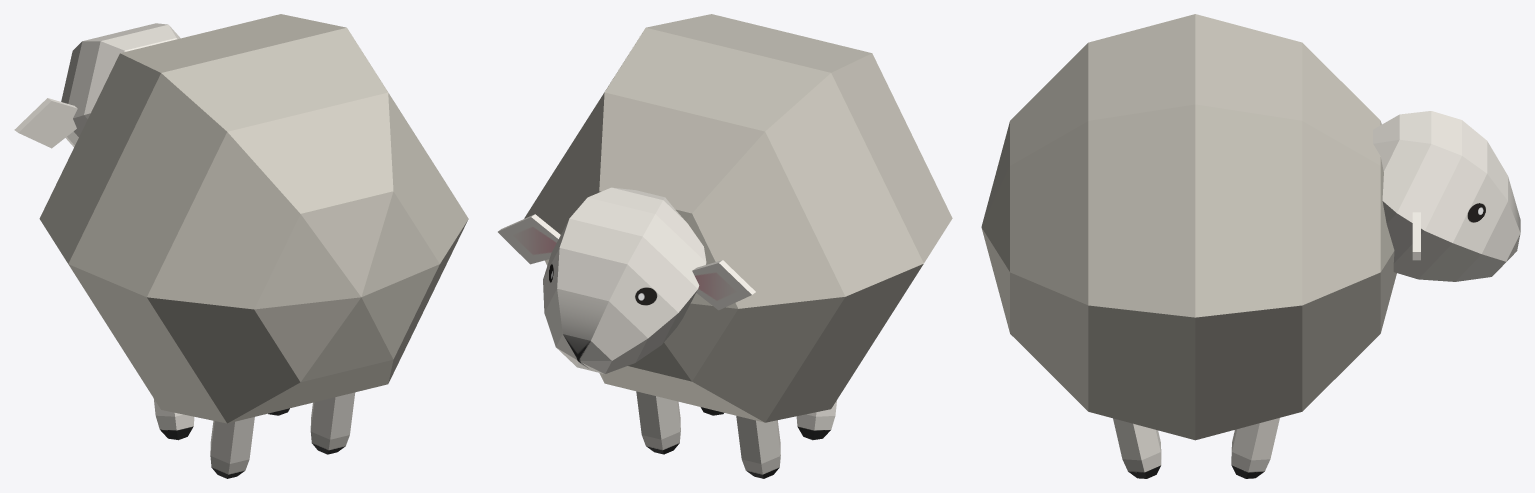
The model's file is Sheep_Model.fbx.
The picture shows the model from 3 angles, left to right: view 1: azimuth 30°, elevation 25°; view 2: azimuth 150°, elevation 25°; view 3: azimuth 270°, elevation 25°; orthographic projection.
Parts seen in each view (by area): view 1: pasted__Head1; view 2: pasted__Head1; view 3: pasted__Head1.
Boxes of the visible parts, x1=… form: pasted__Head1: x1=14, y1=14, x2=468, y2=478; pasted__Head1: x1=498, y1=14, x2=952, y2=478; pasted__Head1: x1=981, y1=14, x2=1520, y2=478.
Size of the model in its own units: 200 by 203 by 252.
